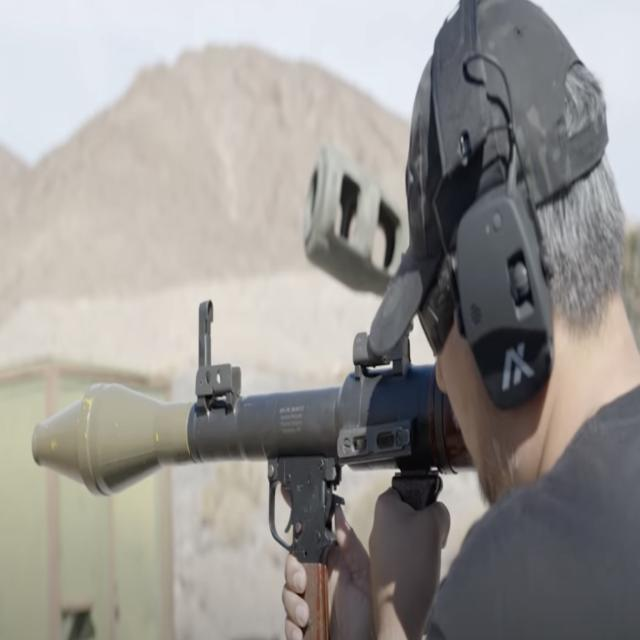bazooka: (24, 300, 483, 579)
